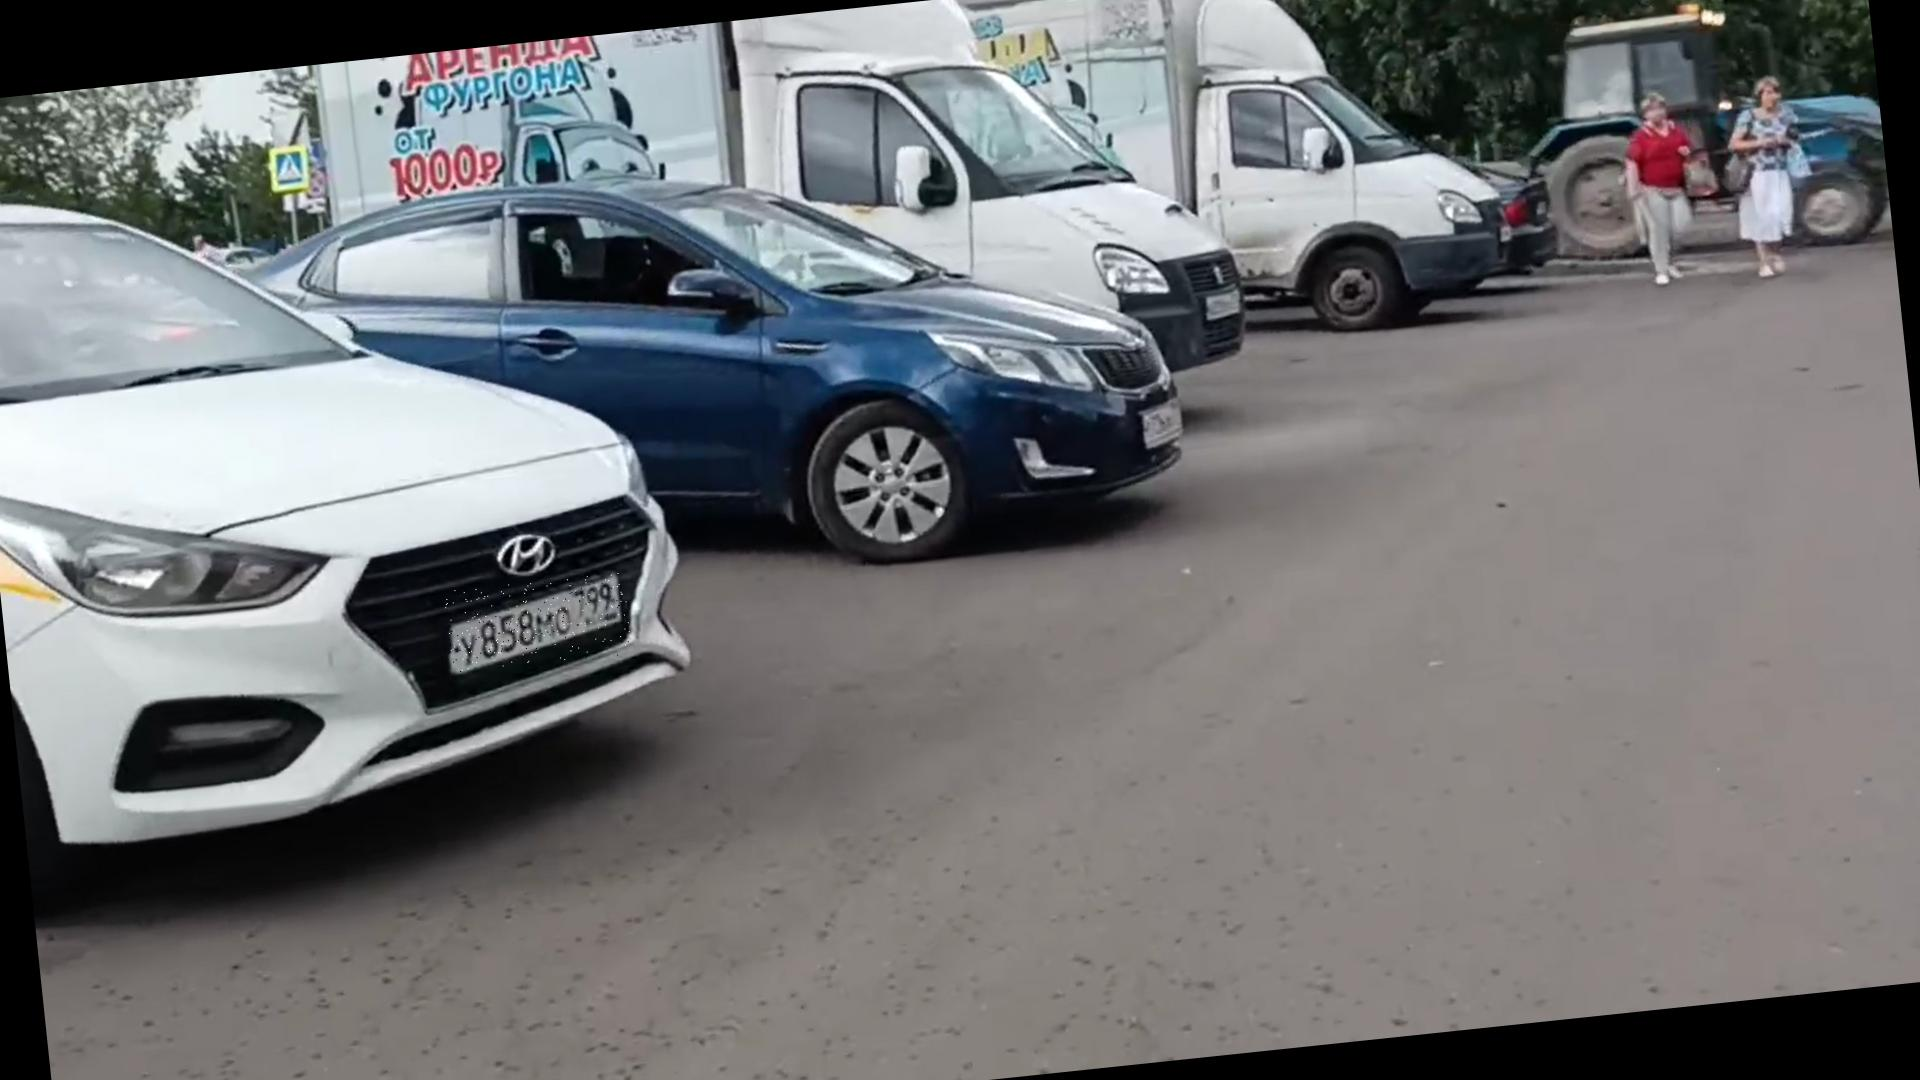plate: (445, 574, 634, 674)
